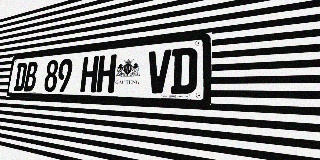8: (43, 59, 60, 92)
9: (56, 58, 73, 92)
B: (24, 61, 38, 91)
D: (170, 47, 198, 94), (13, 62, 28, 91)
H: (96, 54, 117, 93), (80, 56, 99, 92)
V: (146, 49, 171, 94)
